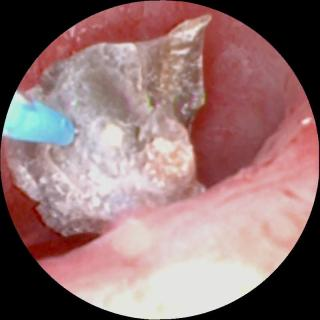fiber: (6, 100, 74, 145)
stone: (7, 14, 210, 235)
tissue: (19, 19, 312, 306)
